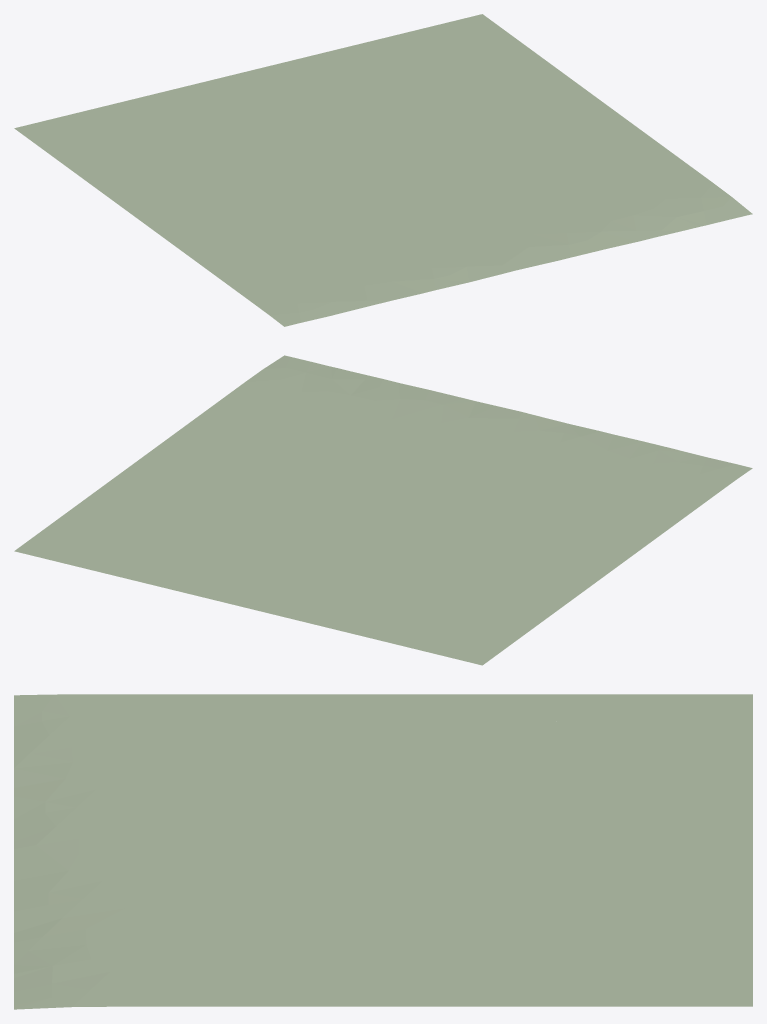
File: SM_MPRR_Terrain_0_-1.fbx
The picture shows the model from 3 angles, top to bottom: view 1: azimuth 30°, elevation 25°; view 2: azimuth 150°, elevation 25°; view 3: azimuth 270°, elevation 25°; orthographic projection. The views are drawn at different scales.
Parts seen in each view (by area): view 1: SM_MPRR_Terrain_0_-1; view 2: SM_MPRR_Terrain_0_-1; view 3: SM_MPRR_Terrain_0_-1.
Boxes of the visible parts, <box> form: SM_MPRR_Terrain_0_-1: <box>14,14,752,326</box>; SM_MPRR_Terrain_0_-1: <box>14,355,752,665</box>; SM_MPRR_Terrain_0_-1: <box>14,694,752,1009</box>.
Size of the model in its own units: 15000 by 15000 by 65.74.
